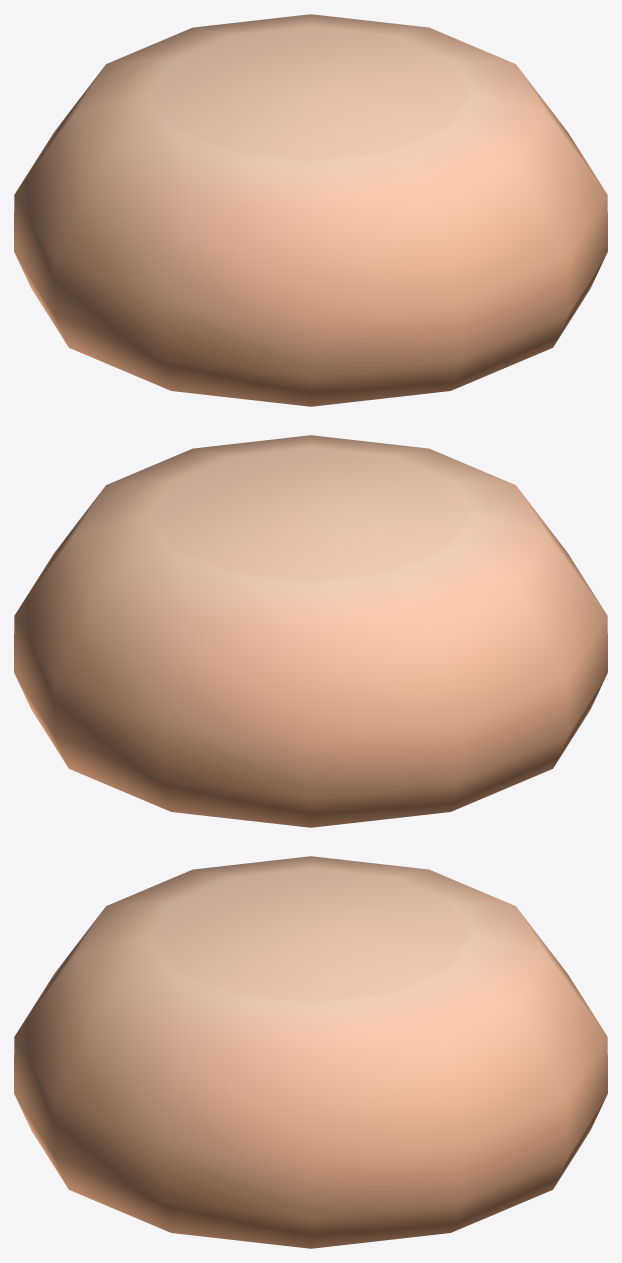
Rendered from candy_choco_6.fbx.
3 renders of one model, top to bottom at view 1: azimuth 30°, elevation 25°; view 2: azimuth 150°, elevation 25°; view 3: azimuth 270°, elevation 25°, orthographic.
Visible parts, largest first — view 1: c_c_6; view 2: c_c_6; view 3: c_c_6.
Part boxes in pixels (bbox=[...]): c_c_6: bbox=[14, 14, 607, 406]; c_c_6: bbox=[14, 435, 607, 827]; c_c_6: bbox=[14, 856, 607, 1248].
Size of the model in its own units: 117 by 48.87 by 117.
